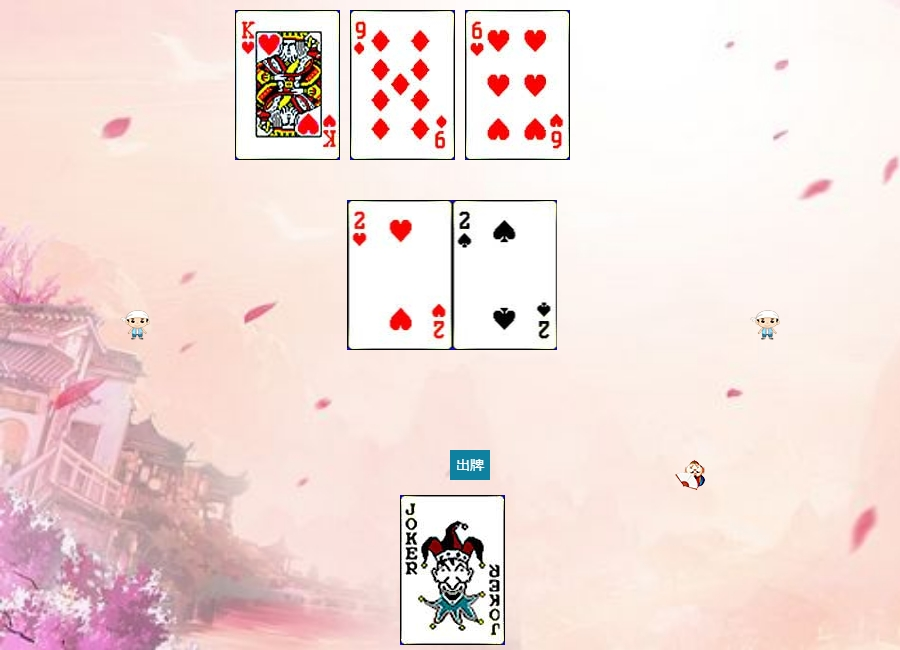13~3: (235, 10, 340, 160)
15~3: (348, 200, 453, 350)
15~4: (453, 200, 558, 350)
17~3: (400, 495, 505, 645)
6~3: (465, 10, 570, 160)
9~1: (350, 10, 455, 160)
